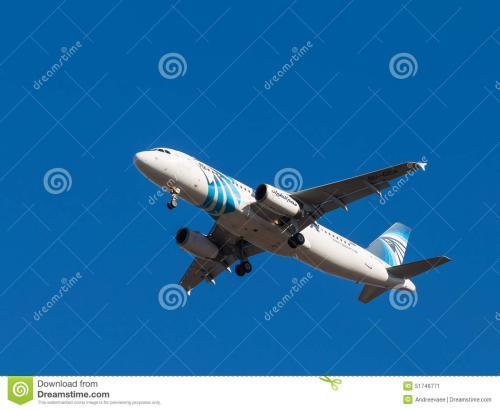airplane: (128, 140, 454, 305)
